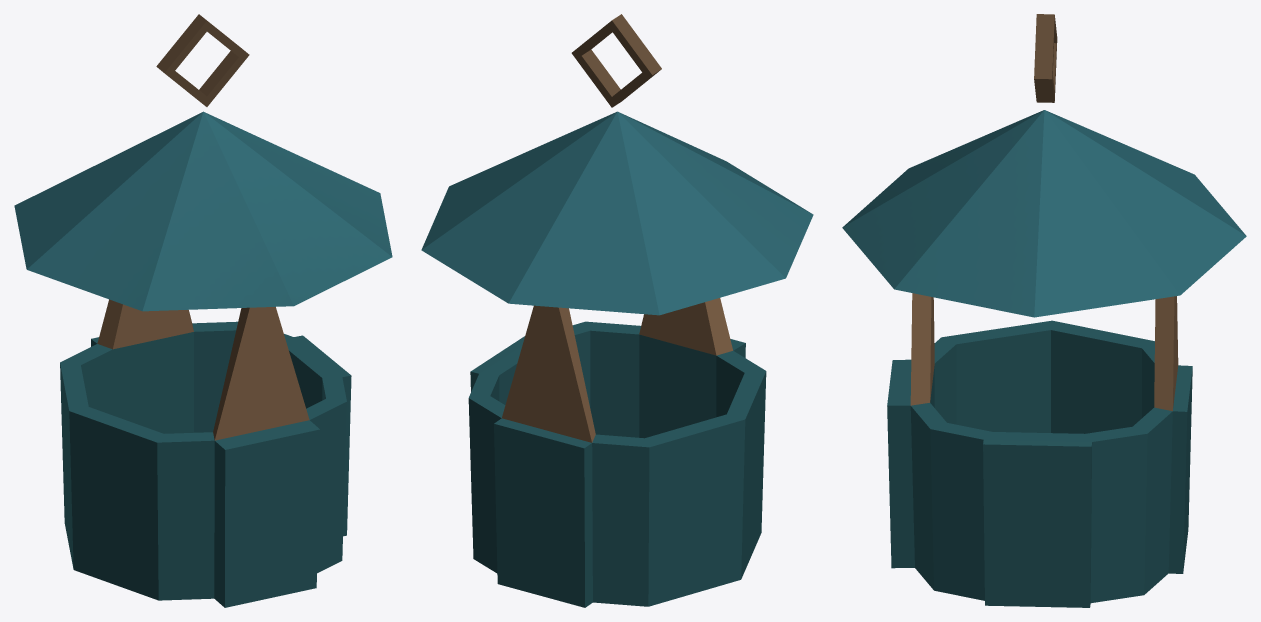
The model's file is FerrisWheelCart2.gltf.
3 renders of one model, left to right at view 1: azimuth 30°, elevation 25°; view 2: azimuth 150°, elevation 25°; view 3: azimuth 270°, elevation 25°, orthographic.
Parts seen in each view (by area): view 1: ferriswheel.003; view 2: ferriswheel.003; view 3: ferriswheel.003.
Boxes of the visible parts, left/top/right/bottom form: ferriswheel.003: left=14, top=14, right=392, bottom=607; ferriswheel.003: left=421, top=14, right=813, bottom=607; ferriswheel.003: left=842, top=14, right=1246, bottom=607.
Bounding box in the file's own units: 1.63 × 2.37 × 1.63.
1 material, 1 textured.
